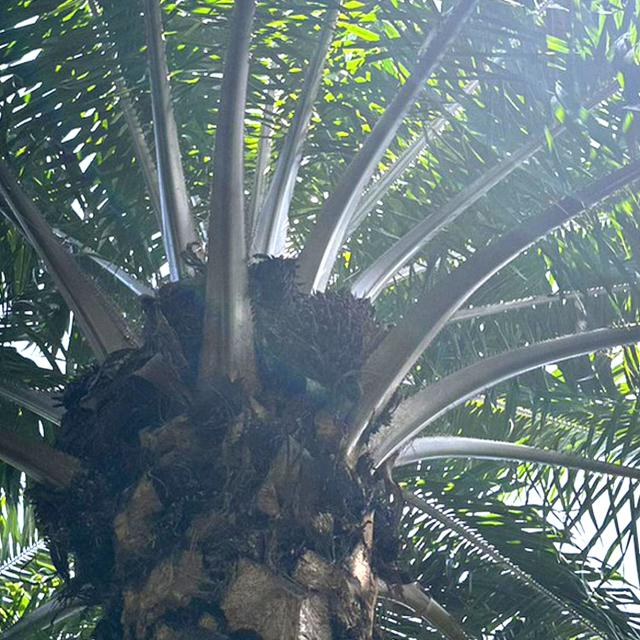ripe: (292, 283, 391, 381)
